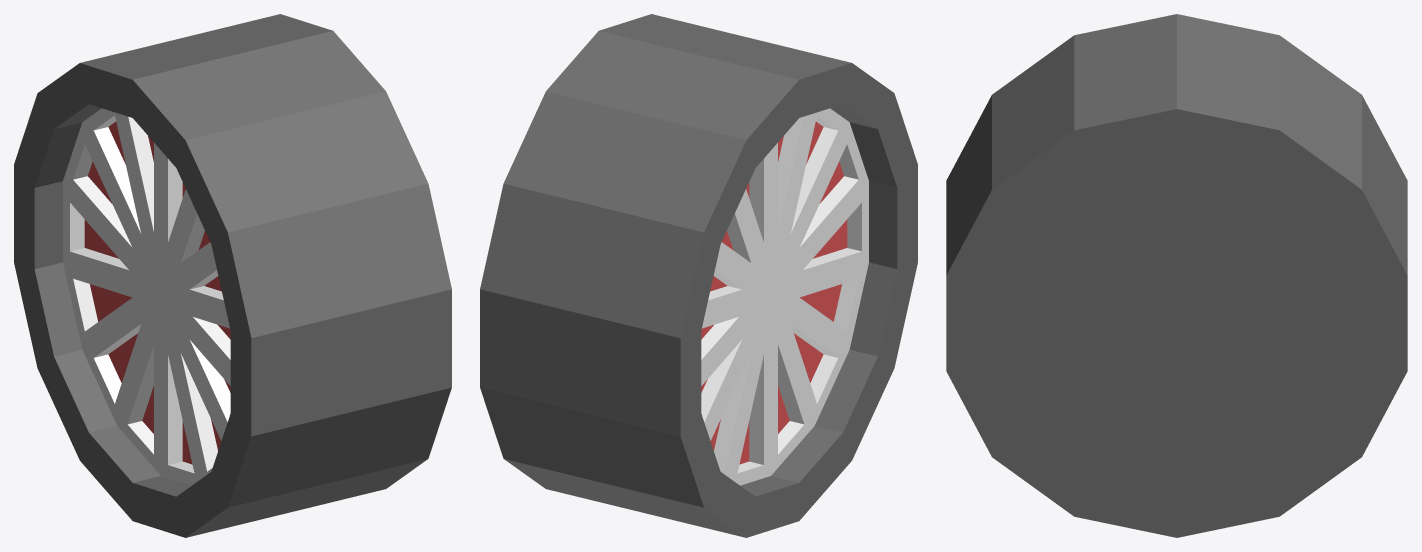
Rendered from Low-Poly-Racing-Car_WHEEL_LEFT.glb.
3 renders of one model, left to right at view 1: azimuth 30°, elevation 25°; view 2: azimuth 150°, elevation 25°; view 3: azimuth 270°, elevation 25°, orthographic. The views are drawn at different scales.
Parts seen in each view (by area): view 1: wheel1.001; view 2: wheel1.001; view 3: wheel1.001.
Part boxes in pixels (x1=…): wheel1.001: x1=14, y1=14, x2=451, y2=537; wheel1.001: x1=480, y1=14, x2=917, y2=537; wheel1.001: x1=946, y1=14, x2=1407, y2=537.
Size of the model in its own units: 0.1348 by 0.2835 by 0.2764.
